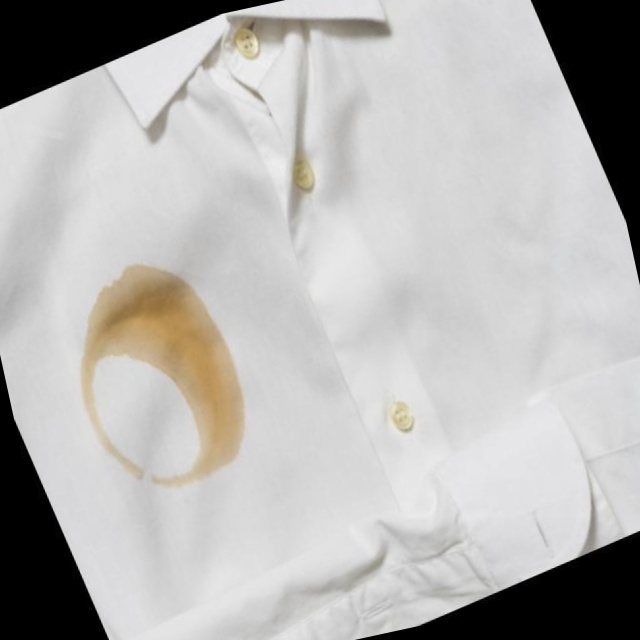coffee: (70, 248, 228, 376), (169, 346, 264, 478)
